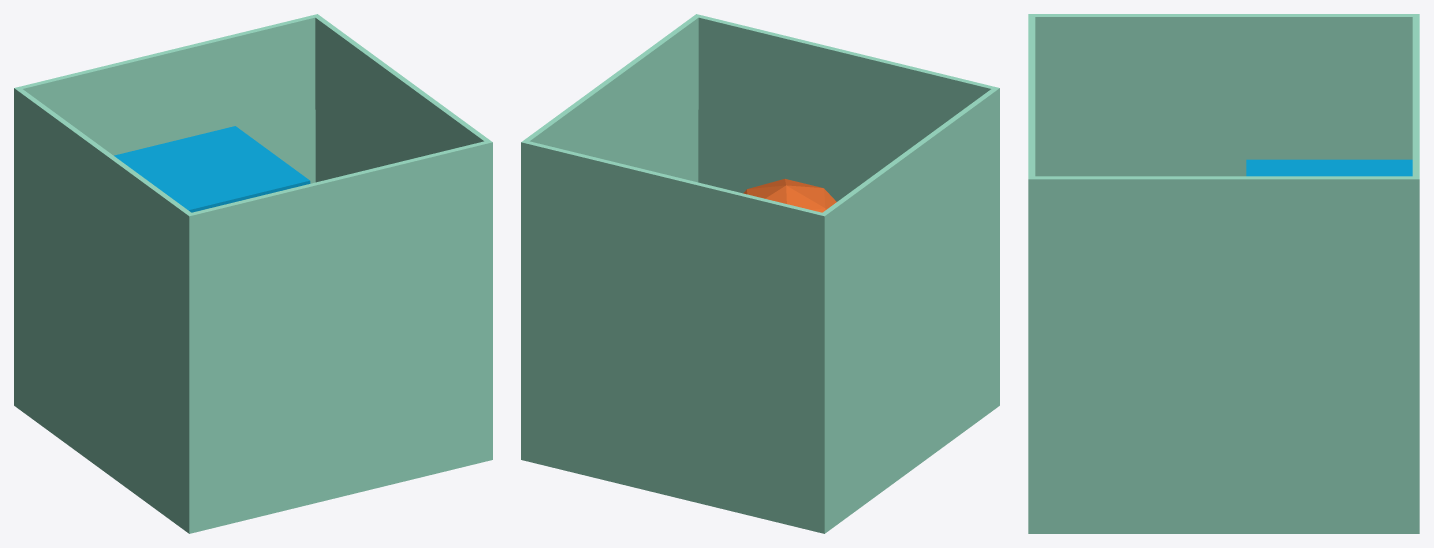
The model's file is room_test.gltf.
The picture shows the model from 3 angles, left to right: view 1: azimuth 30°, elevation 25°; view 2: azimuth 150°, elevation 25°; view 3: azimuth 270°, elevation 25°; orthographic projection. The views are drawn at different scales.
Visible parts, largest first — view 1: Cube.001, Cube; view 2: Cube.001, Icosphere; view 3: Cube.001, Cube.
Part boxes in pixels (bbox=[...]): Cube.001: bbox=[14, 14, 492, 533]; Cube: bbox=[114, 126, 310, 212]; Cube.001: bbox=[521, 14, 999, 533]; Icosphere: bbox=[743, 179, 836, 212]; Cube.001: bbox=[1028, 14, 1419, 533]; Cube: bbox=[1246, 159, 1412, 176].
Bounding box in the file's own units: 16.94 × 16.94 × 16.94.
